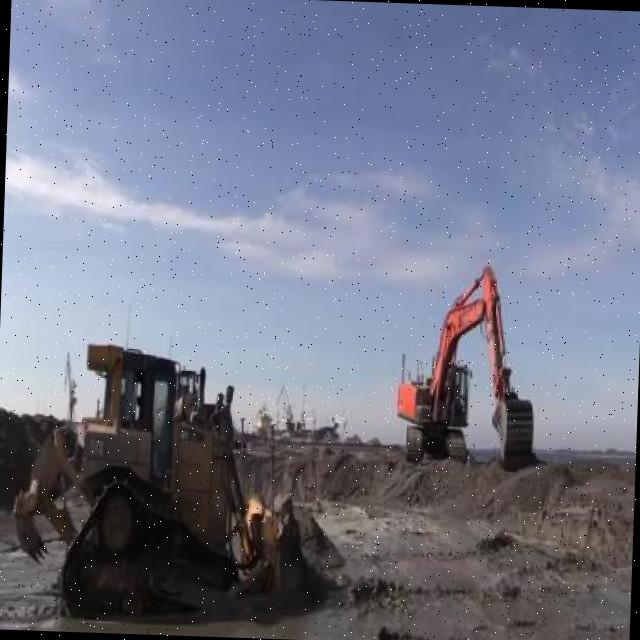Bulldozer: (7, 340, 302, 631)
Excavator: (392, 254, 538, 470)
